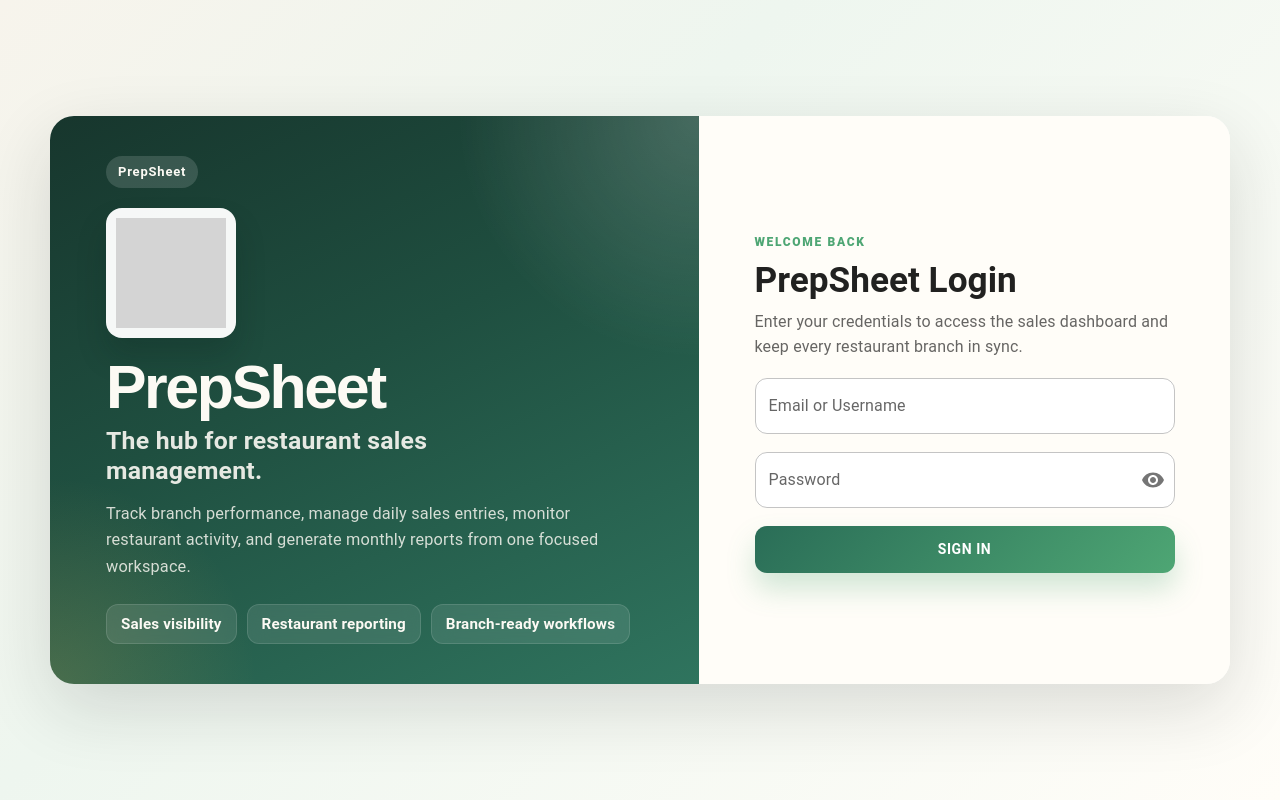
it: Login page › clears both inputs and shows an error when login fails
Step 1. Type "admin@example.com" into the field labelled "Email or Username" → (964, 406), box [754,378,1174,434]
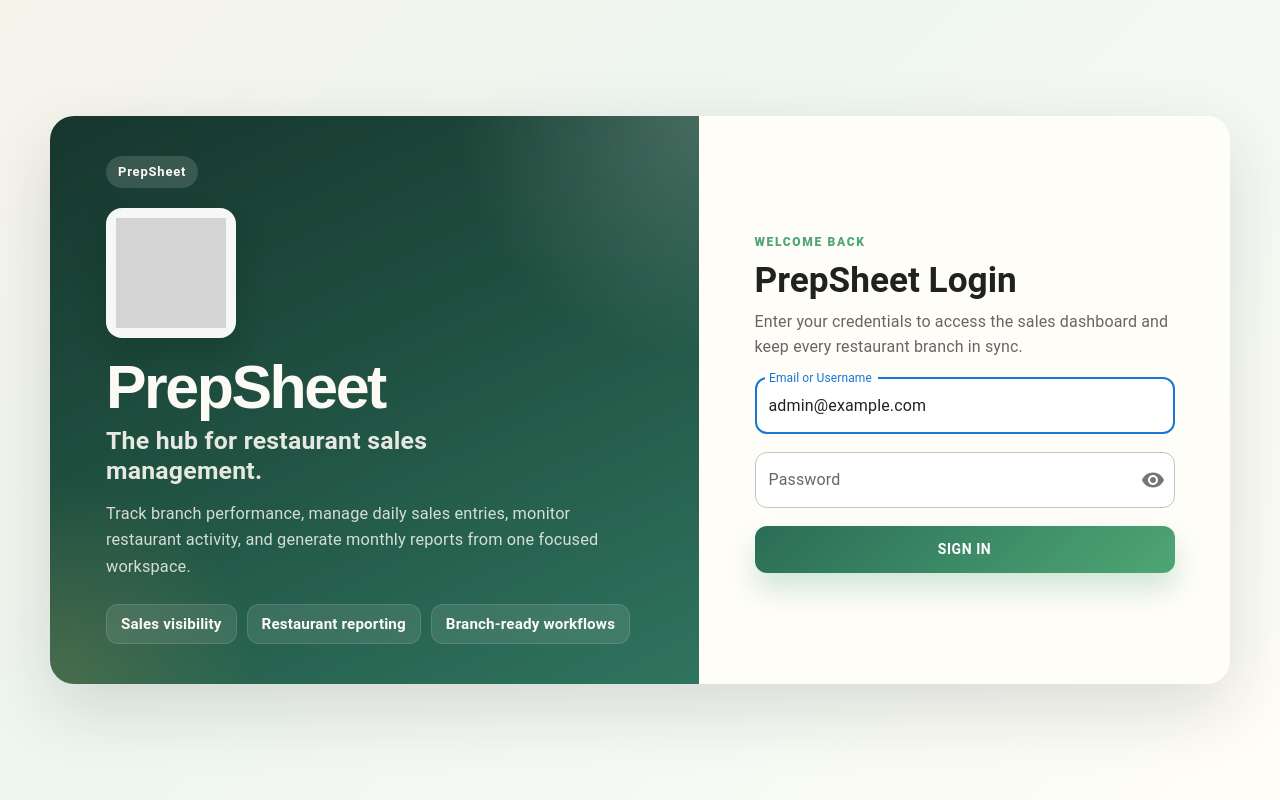
Step 2. Type "wrong-password" into the password field labelled "Password" → (940, 480), box [754,452,1124,508]
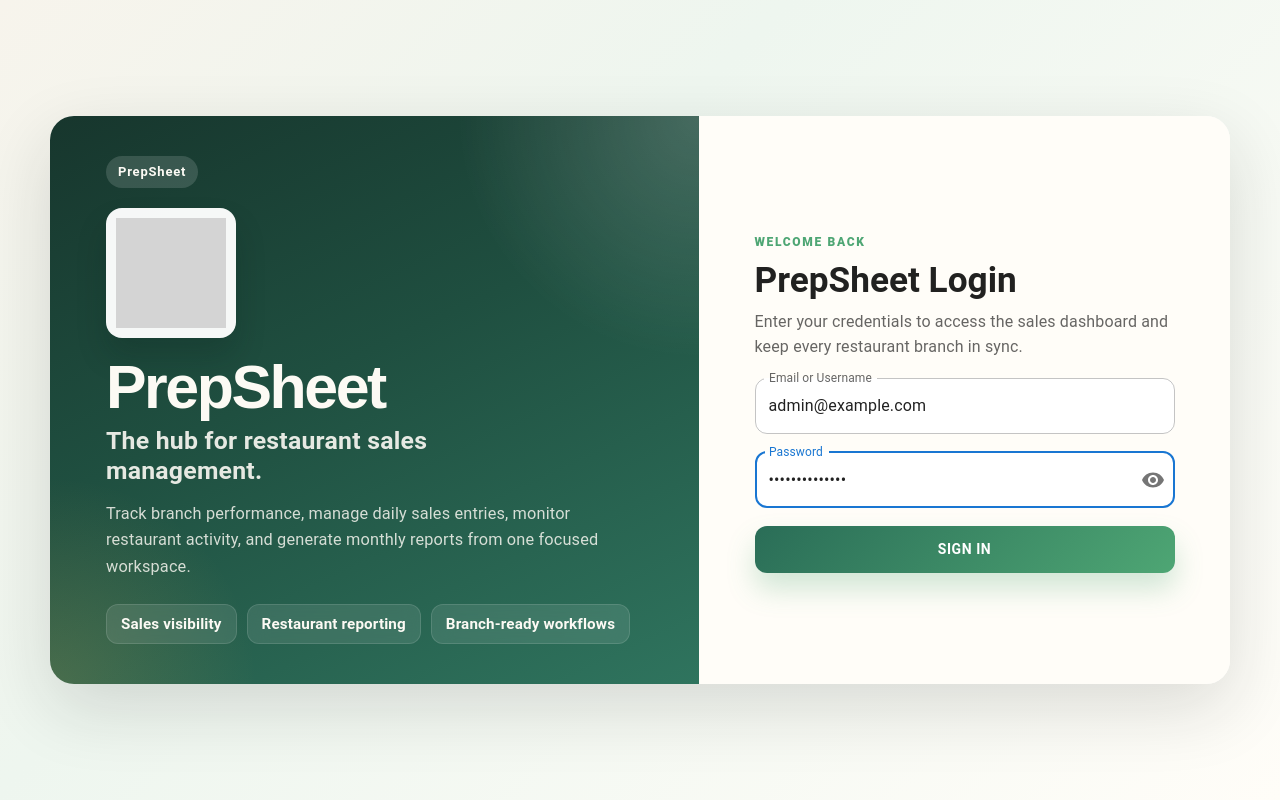
Step 3. Click the button "Sign in" → click(964, 549), box [754,526,1174,573]
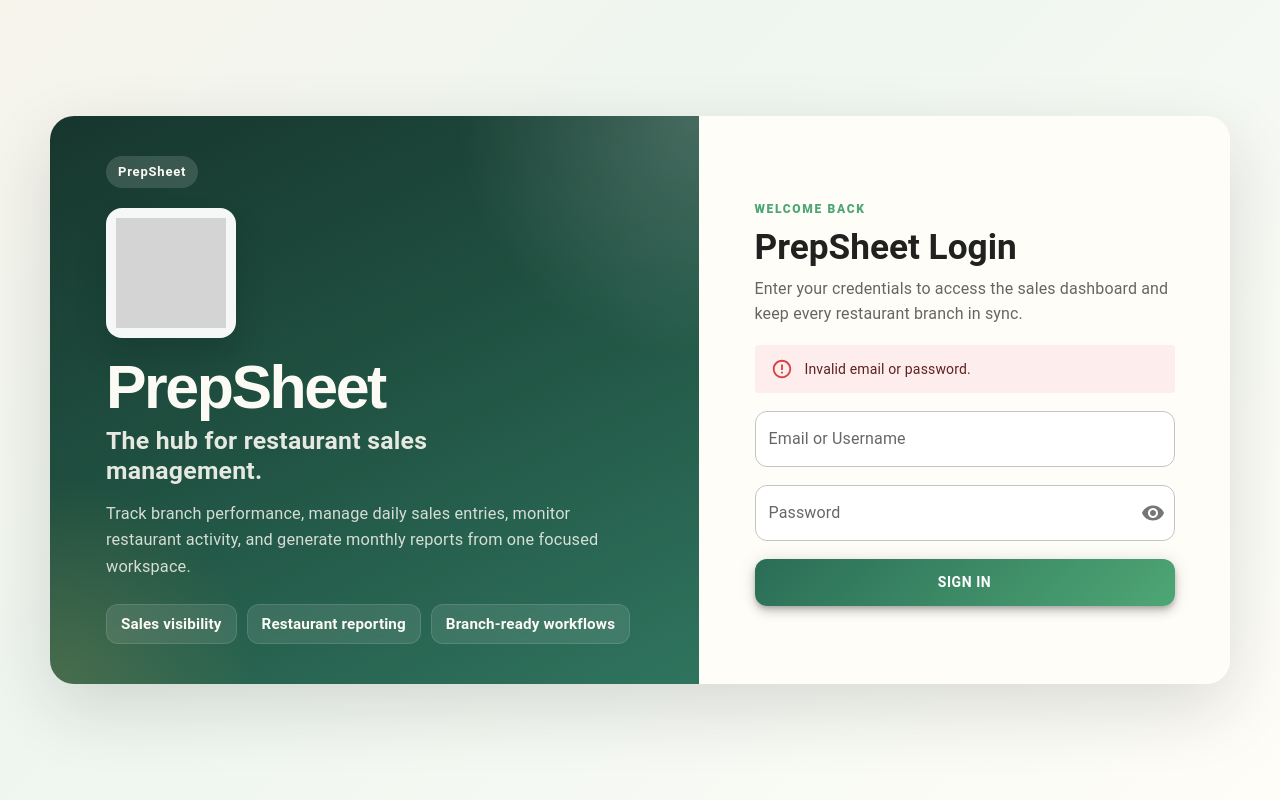
Expected: the text "Invalid email or password." is shown, [804,361,971,377]
Expected: the field labelled "Email or Username" is empty, [754,411,1174,467]
Expected: the password field labelled "Password" is empty, [754,485,1124,541]
